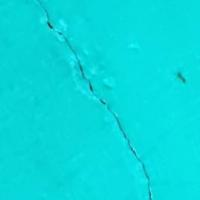crack: (40, 0, 153, 190)
